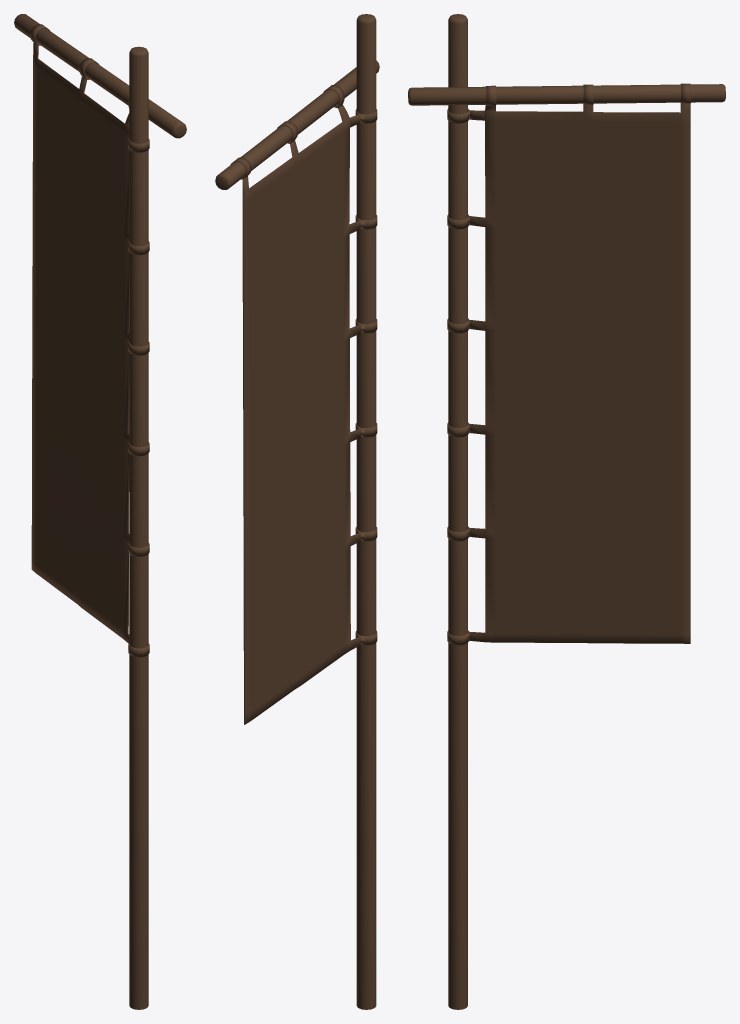
Rendered from RactangleFlag.fbx.
The picture shows the model from 3 angles, left to right: view 1: azimuth 30°, elevation 25°; view 2: azimuth 150°, elevation 25°; view 3: azimuth 270°, elevation 25°; orthographic projection. The views are drawn at different scales.
Parts seen in each view (by area): view 1: Cylinder.001; view 2: Cylinder.001; view 3: Cylinder.001.
Part boxes in pixels (x1=…): Cylinder.001: x1=14, y1=14, x2=186, y2=1009; Cylinder.001: x1=215, y1=14, x2=379, y2=1009; Cylinder.001: x1=408, y1=14, x2=725, y2=1009.
Bounding box in the file's own units: 0.7717 × 0.0995 × 2.65.
